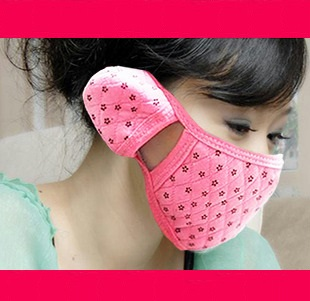face_mask: (160, 63, 291, 249)
